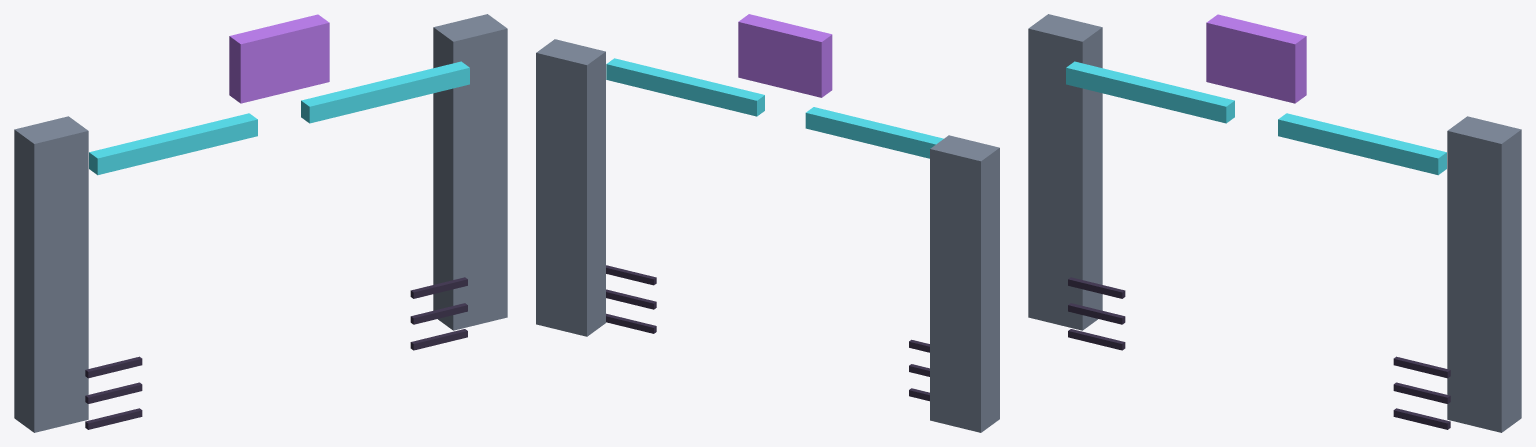
The model's file is robot-face.glb.
The picture shows the model from 3 angles, left to right: view 1: azimuth 30°, elevation 25°; view 2: azimuth 150°, elevation 25°; view 3: azimuth 330°, elevation 25°; orthographic projection. The views are drawn at different scales.
Parts seen in each view (by area): view 1: temple plate (×2), optic rail (×2), forehead chip, vent (×6); view 2: temple plate (×2), optic rail (×2), forehead chip, vent (×3); view 3: temple plate (×2), optic rail (×2), forehead chip, vent (×6).
Boxes of the visible parts, left/top/right/bottom form: temple plate (×2): left=14, top=14, right=507, bottom=432; optic rail (×2): left=89, top=61, right=469, bottom=175; forehead chip: left=229, top=14, right=329, bottom=103; vent (×6): left=85, top=277, right=467, bottom=429; temple plate (×2): left=536, top=39, right=999, bottom=432; optic rail (×2): left=606, top=58, right=943, bottom=158; forehead chip: left=738, top=14, right=832, bottom=97; vent (×3): left=606, top=265, right=656, bottom=333; temple plate (×2): left=1028, top=14, right=1521, bottom=432; optic rail (×2): left=1066, top=61, right=1446, bottom=175; forehead chip: left=1206, top=14, right=1306, bottom=103; vent (×6): left=1068, top=277, right=1450, bottom=429.
Size of the model in its own units: 1.92 by 1.38 by 0.24.
